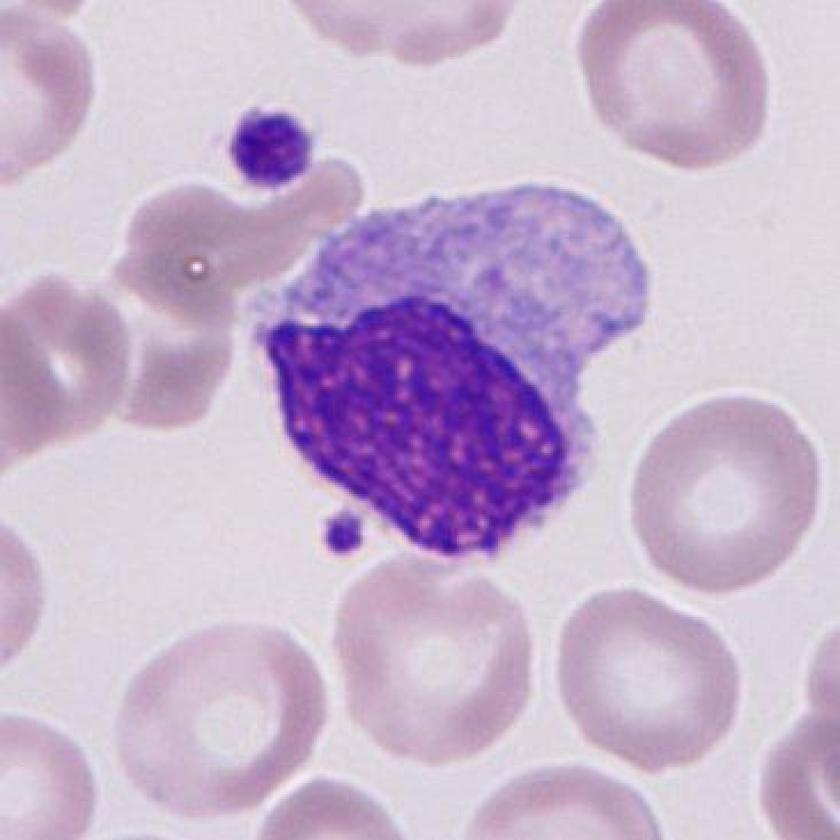monocyte: (237, 158, 678, 597)
